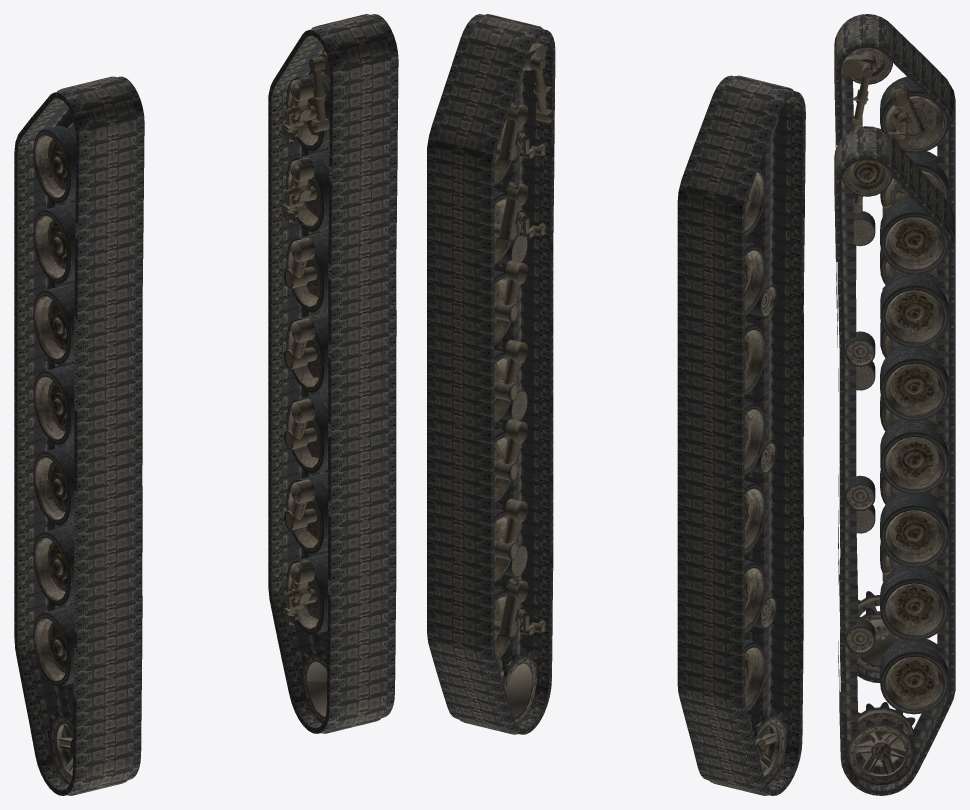
File: Chassis.glb
The picture shows the model from 3 angles, left to right: view 1: azimuth 30°, elevation 25°; view 2: azimuth 150°, elevation 25°; view 3: azimuth 270°, elevation 25°; orthographic projection. The views are drawn at different scales.
Parts seen in each view (by area): view 1: set_0_group_0, set_1_group_0, set_3_group_0, set_2_group_0; view 2: set_0_group_0, set_1_group_0, set_3_group_0, set_2_group_0; view 3: set_3_group_0, set_1_group_0, set_2_group_0, set_0_group_0.
Boxes of the visible parts, bbox=[...] form: set_0_group_0: bbox=[14, 76, 144, 795]; set_1_group_0: bbox=[268, 14, 398, 733]; set_3_group_0: bbox=[282, 50, 330, 723]; set_2_group_0: bbox=[33, 114, 76, 784]; set_0_group_0: bbox=[677, 75, 805, 795]; set_1_group_0: bbox=[427, 14, 555, 734]; set_3_group_0: bbox=[494, 43, 553, 732]; set_2_group_0: bbox=[744, 112, 786, 793]; set_3_group_0: bbox=[842, 160, 948, 785]; set_1_group_0: bbox=[834, 126, 955, 795]; set_2_group_0: bbox=[841, 47, 948, 672]; set_0_group_0: bbox=[834, 14, 955, 682].
Size of the model in its own units: 3.42 by 7.25 by 1.24.
4 materials, 4 textured.
